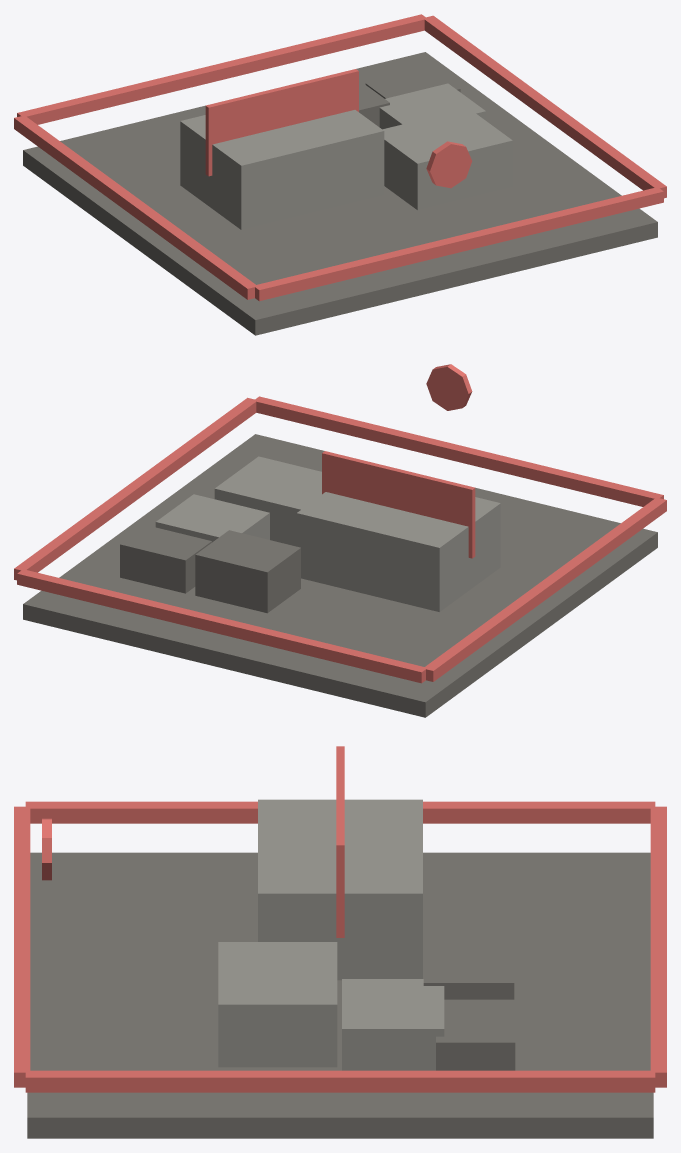
The model's file is t5_stonecutter.glb.
3 renders of one model, top to bottom at view 1: azimuth 30°, elevation 25°; view 2: azimuth 150°, elevation 25°; view 3: azimuth 270°, elevation 25°, orthographic. The views are drawn at different scales.
Visible parts, largest first — view 1: FootprintBase, WorkBlock, InputStonePileA, TierFrontTrim, TierBackTrim, CutLine, TierLeftTrim, TierRightTrim, InputStonePileB, TierEmblem, OutputBlockB, OutputBlockA; view 2: FootprintBase, WorkBlock, TierBackTrim, TierFrontTrim, OutputBlockA, CutLine, TierLeftTrim, InputStonePileA, TierRightTrim, OutputBlockB, InputStonePileB, TierEmblem; view 3: FootprintBase, WorkBlock, InputStonePileA, TierRightTrim, TierLeftTrim, InputStonePileB, OutputBlockA, OutputBlockB, TierBackTrim, TierFrontTrim, CutLine, TierEmblem.
Part boxes in pixels (x1,y1,x2,y2): FootprintBase: [23, 52, 657, 335]; WorkBlock: [180, 110, 384, 229]; InputStonePileA: [382, 108, 512, 210]; TierFrontTrim: [253, 187, 663, 301]; TierBackTrim: [17, 14, 427, 124]; CutLine: [205, 69, 358, 176]; TierLeftTrim: [14, 116, 255, 299]; TierRightTrim: [423, 15, 666, 198]; InputStonePileB: [379, 83, 485, 129]; TierEmblem: [426, 141, 472, 188]; OutputBlockB: [365, 67, 460, 98]; OutputBlockA: [359, 80, 389, 127]; FootprintBase: [23, 434, 657, 717]; WorkBlock: [296, 492, 500, 611]; TierBackTrim: [17, 569, 425, 683]; TierFrontTrim: [253, 396, 663, 506]; OutputBlockA: [195, 530, 300, 613]; CutLine: [322, 451, 475, 558]; TierLeftTrim: [423, 498, 666, 681]; InputStonePileA: [214, 456, 321, 546]; TierRightTrim: [14, 397, 256, 580]; OutputBlockB: [120, 523, 211, 593]; InputStonePileB: [155, 494, 269, 542]; TierEmblem: [426, 364, 472, 410]; FootprintBase: [27, 852, 653, 1138]; WorkBlock: [258, 799, 422, 980]; InputStonePileA: [218, 942, 337, 1067]; TierRightTrim: [25, 1070, 655, 1092]; TierLeftTrim: [25, 801, 655, 823]; InputStonePileB: [342, 979, 444, 1070]; OutputBlockA: [423, 935, 514, 999]; OutputBlockB: [436, 999, 515, 1070]; TierBackTrim: [650, 806, 666, 1087]; TierFrontTrim: [14, 806, 30, 1087]; CutLine: [336, 746, 344, 937]; TierEmblem: [42, 818, 51, 880].
Bounding box in the file's own units: 3.96 × 1.25 × 3.96.
